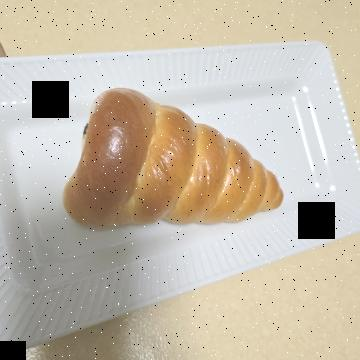cream horn: (84, 68, 262, 304)
